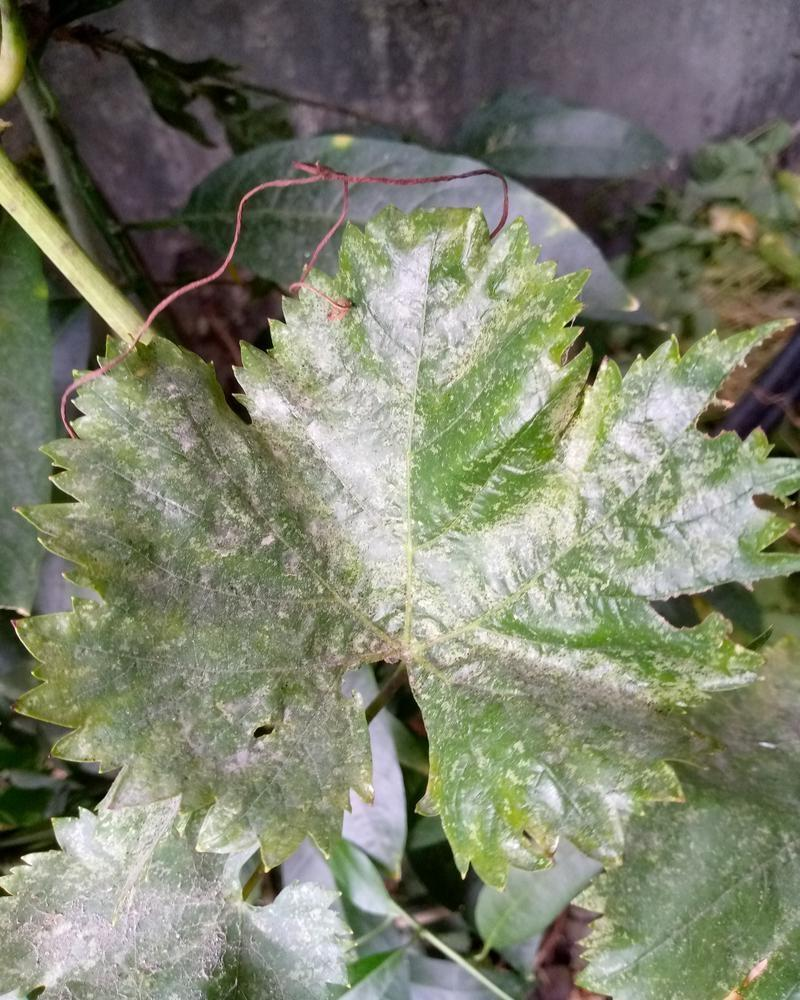Powdery-Mildew: (423, 528, 529, 614), (376, 255, 455, 334), (636, 376, 715, 455), (320, 412, 399, 491), (339, 517, 418, 596), (674, 494, 753, 572), (337, 224, 391, 299), (242, 380, 298, 430)
